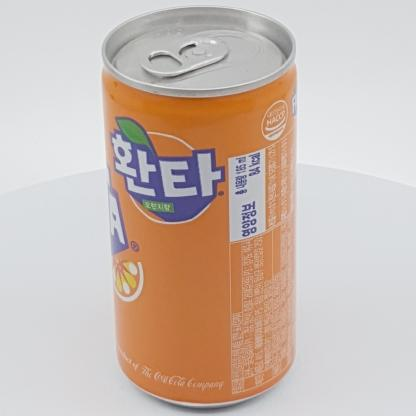-------185ML: (101, 5, 297, 409)
